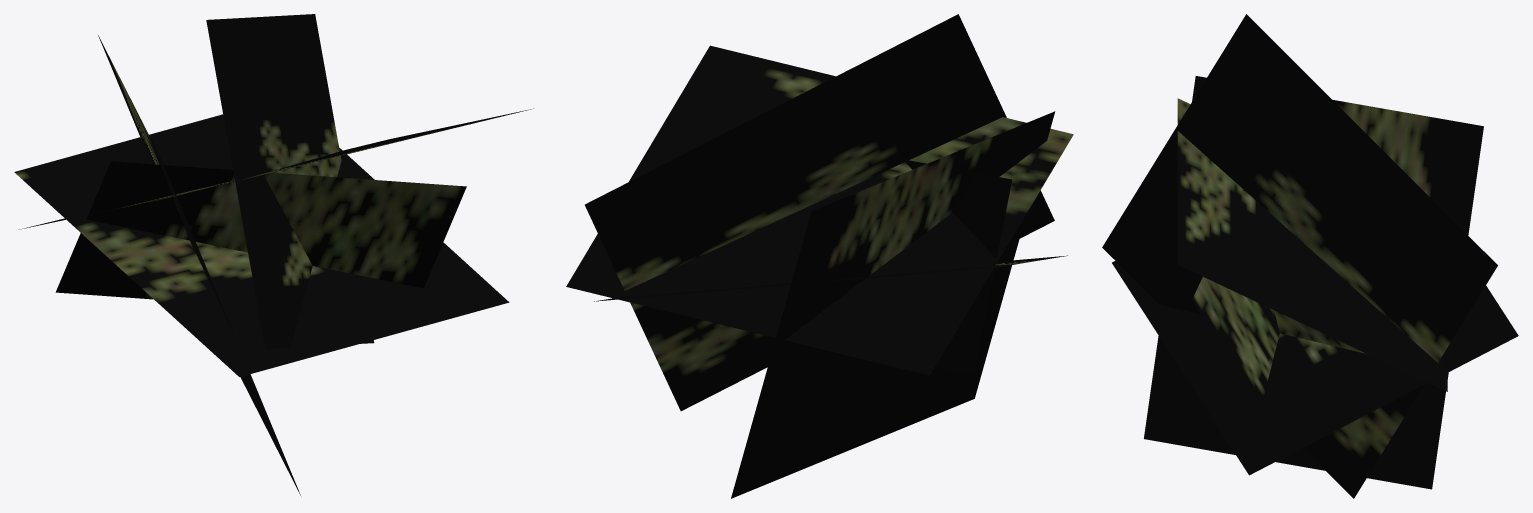
File: pine_leaves_brown_slab_upper.obj
The picture shows the model from 3 angles, left to right: view 1: azimuth 30°, elevation 25°; view 2: azimuth 150°, elevation 25°; view 3: azimuth 270°, elevation 25°; orthographic projection. The views are drawn at different scales.
Visible parts, largest first — view 1: plane; view 2: plane; view 3: plane.
Part boxes in pixels (x1=…): plane: x1=14, y1=14, x2=533, y2=495; plane: x1=566, y1=14, x2=1073, y2=498; plane: x1=1102, y1=14, x2=1518, y2=498.
Size of the model in its own units: 2.11 by 2.18 by 1.98.
